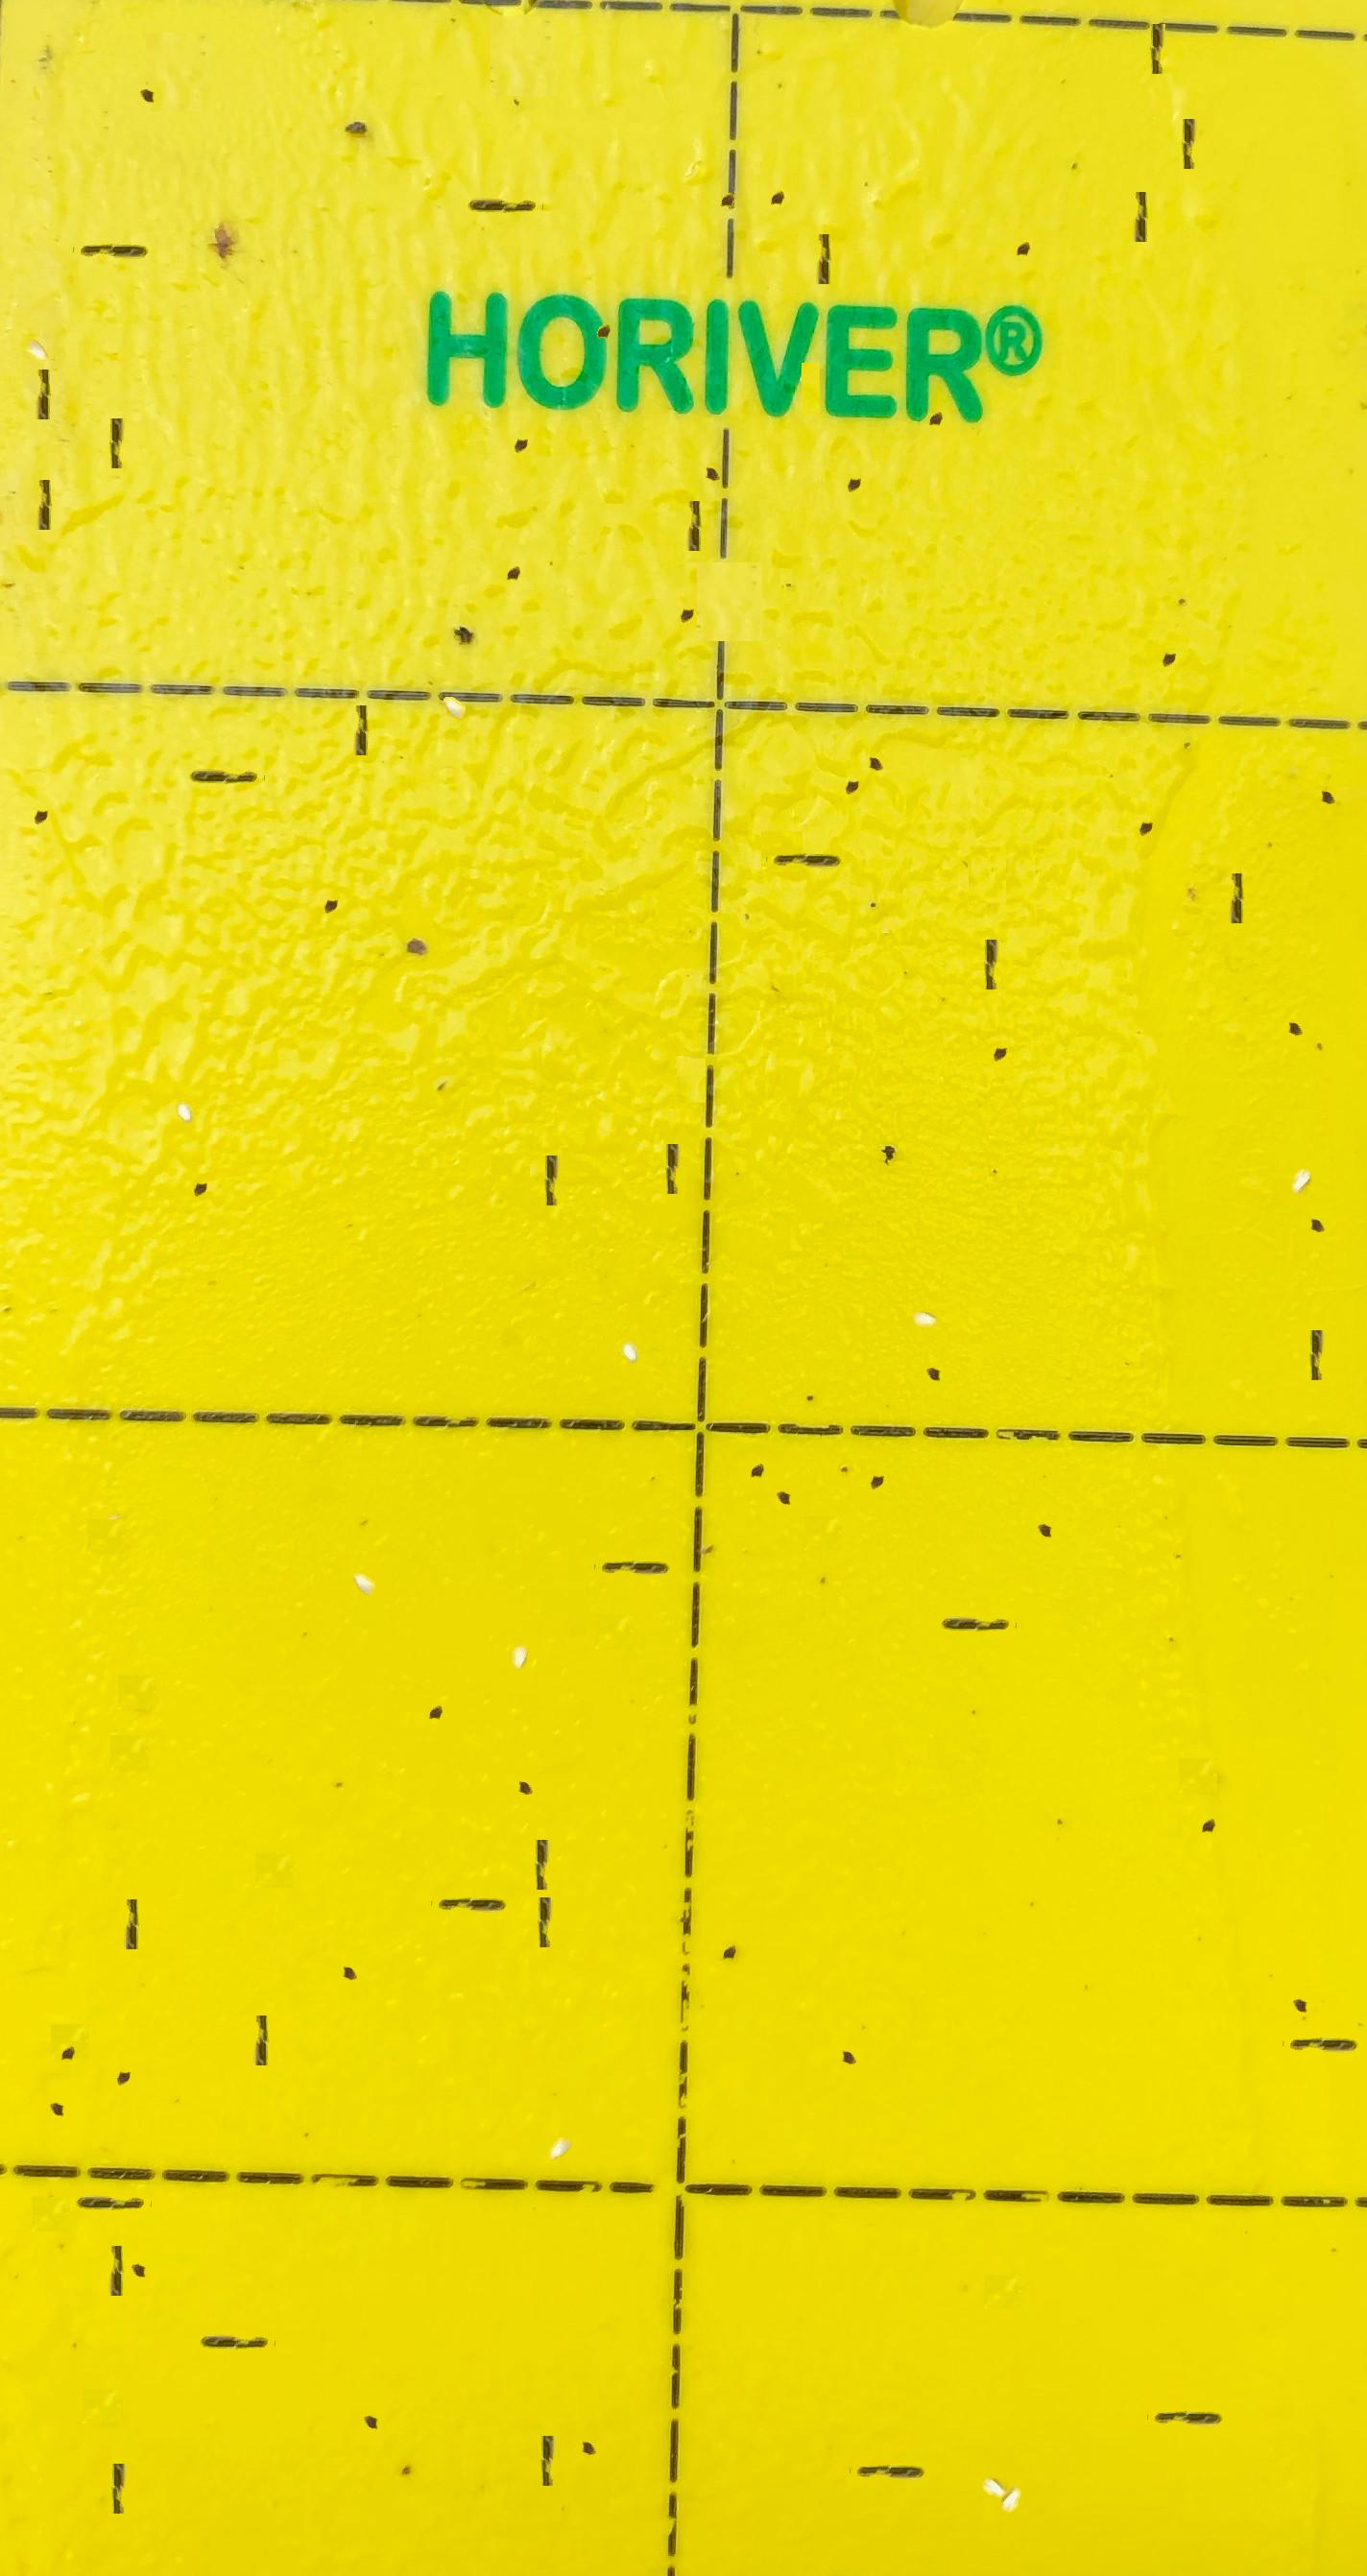white_fly: (164, 1039, 206, 1087), (972, 2421, 1014, 2467), (992, 2435, 1035, 2481), (610, 1279, 651, 1327), (15, 285, 58, 329), (1278, 1111, 1321, 1155), (344, 1520, 385, 1564), (540, 2082, 581, 2126), (435, 644, 476, 687), (903, 1261, 944, 1298), (501, 1600, 542, 1637)
